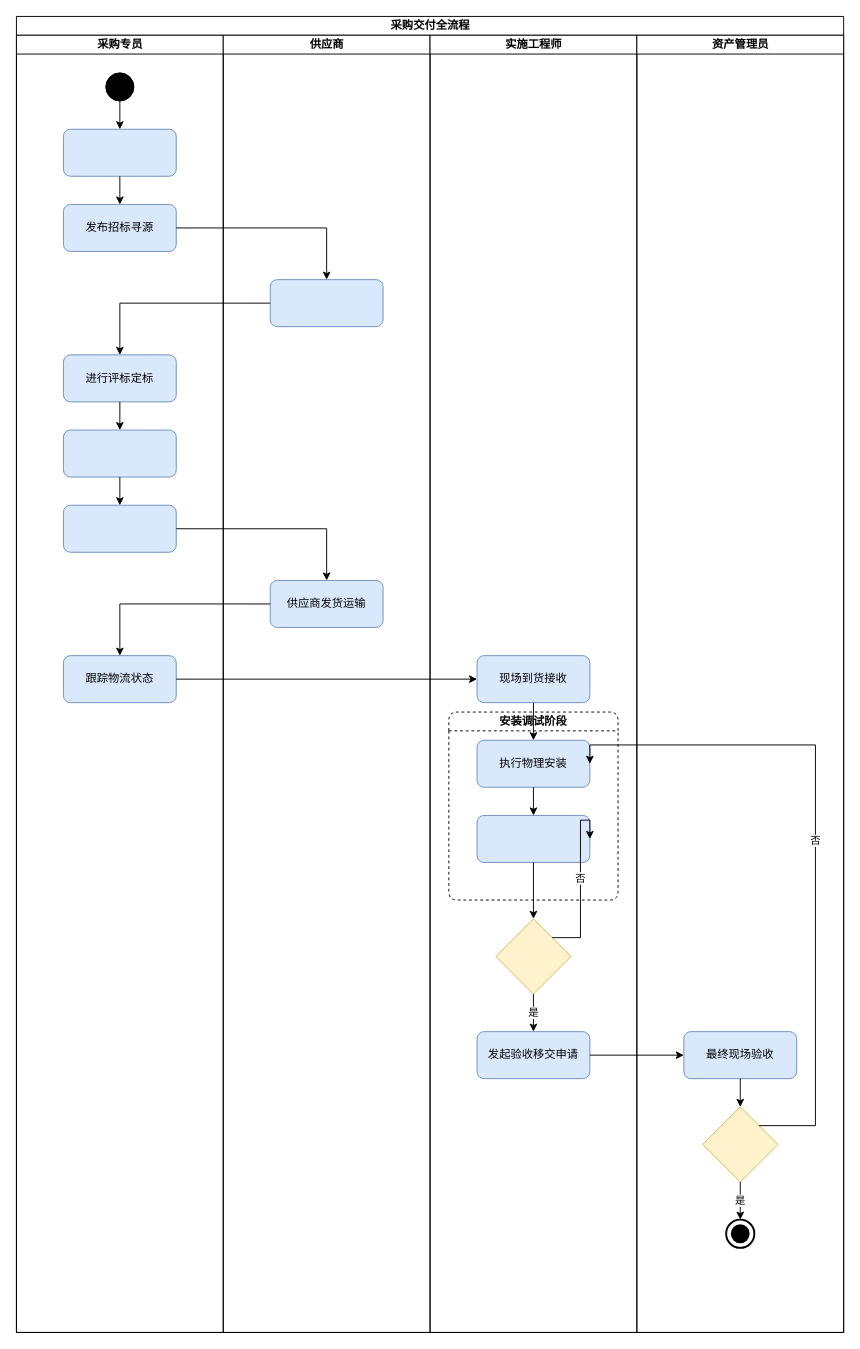
Some shapes in this 860 by 1349 pixel diagram are drawn without their labels. The shapes that lost their labels are listed below. From the top down, each one's centre as x and y in pixels, then its label:
At pixel 119 152: "接收需求计划".
At pixel 326 303: "投标报价".
At pixel 119 453: "签署合同订单".
At pixel 119 528: "下达采购订单".
At pixel 533 838: "进行调试联调".
At pixel 533 956: "调试成功?".
At pixel 740 1144: "验收通过?".
